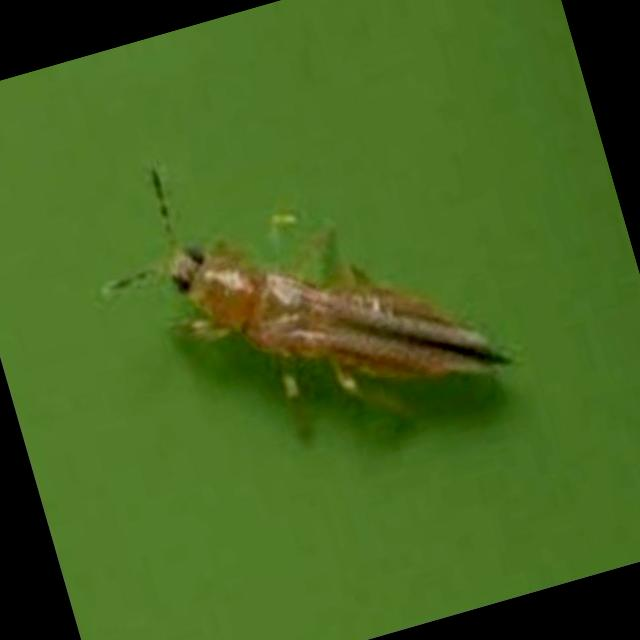melon thrips: (39, 70, 564, 558)
